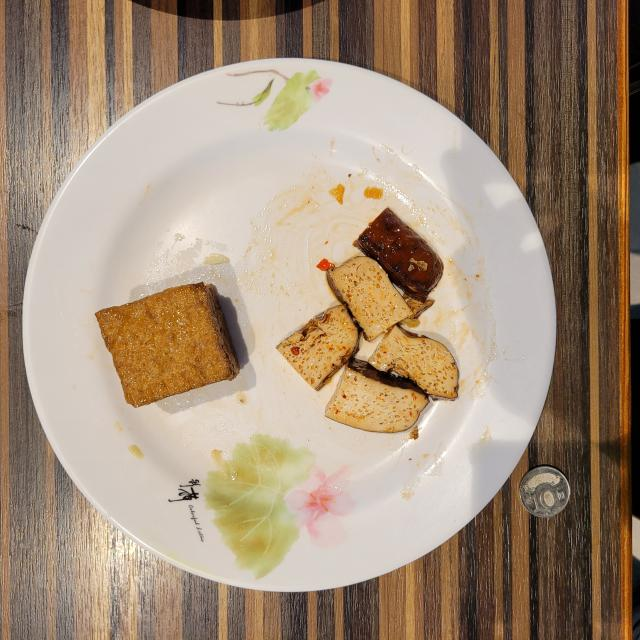coin: (520, 466, 570, 518)
egg tofu: (96, 282, 240, 408)
firm tofu: (279, 209, 459, 432)
